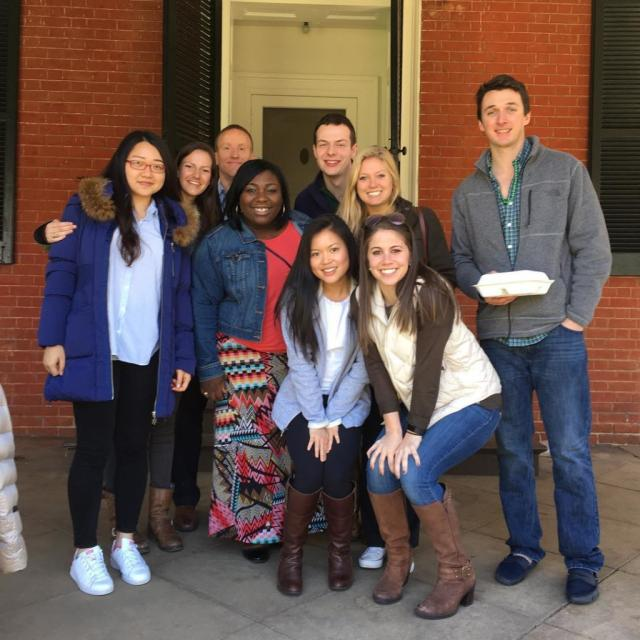body: (446, 73, 620, 609), (32, 125, 203, 601), (31, 138, 221, 560), (344, 211, 508, 624), (186, 156, 337, 569), (334, 145, 456, 574), (267, 210, 384, 600), (170, 123, 256, 534), (295, 112, 371, 222), (0, 365, 31, 581)
